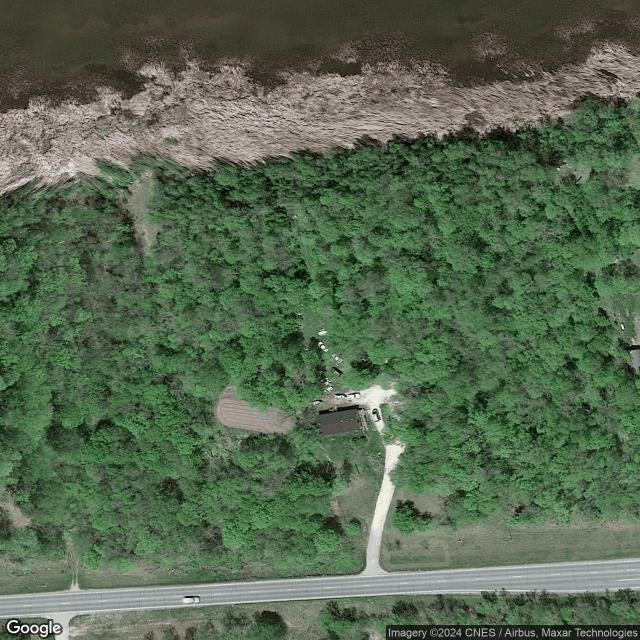Propane: (620, 323, 626, 331)
